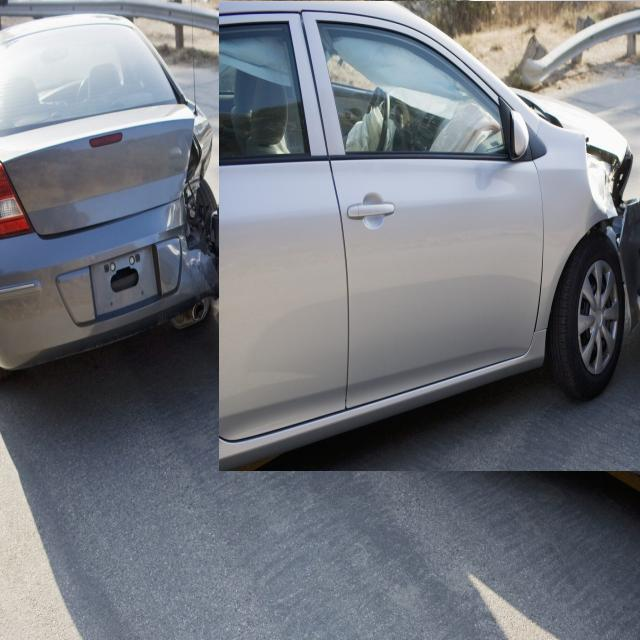accident: (219, 2, 640, 471), (0, 15, 221, 369)
